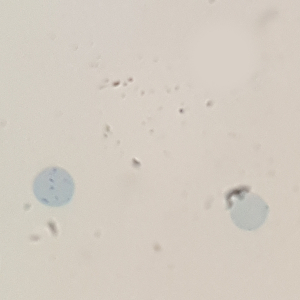aggregate reticulocyte: (31, 166, 78, 209)
erythrocyte: (227, 188, 272, 233)
